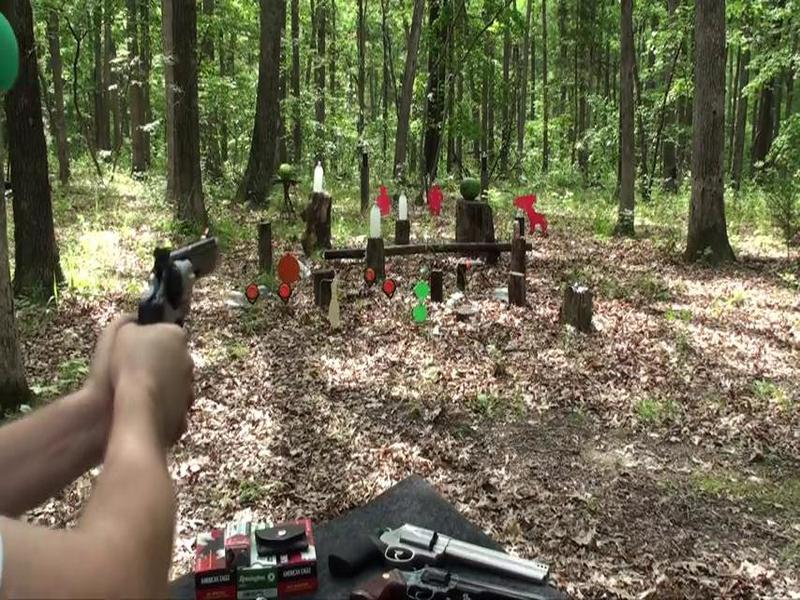Revolver: (103, 219, 247, 383)
